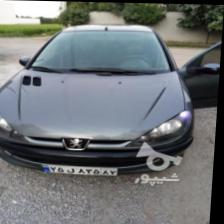plate: (44, 165, 120, 174)
